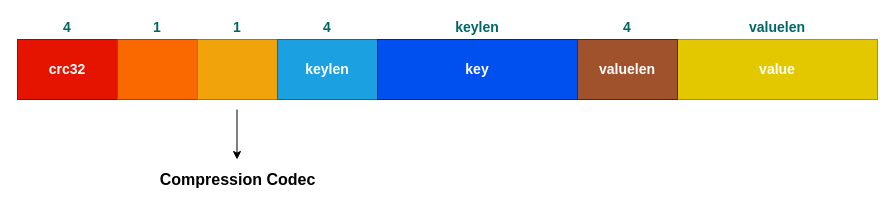
Some shapes in this 895 by 206 pixel diagram are drawn without their labels. The shapes that lost their labels are listed below. From the top down, each one's box as (x1, y1, x2, y2) in pixels, then its label:
(116, 38, 198, 100): magic
(196, 38, 278, 100): attributes
